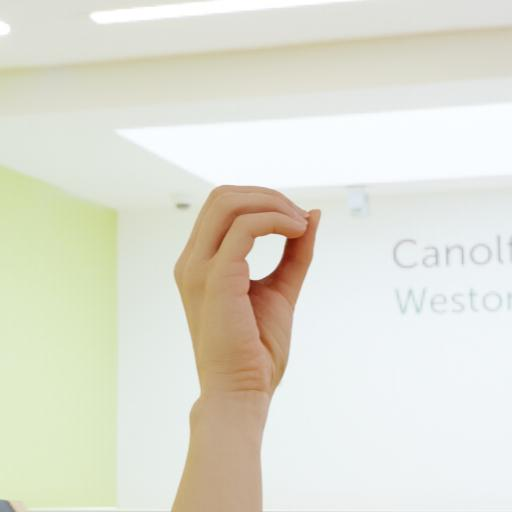O: (166, 178, 328, 485)
